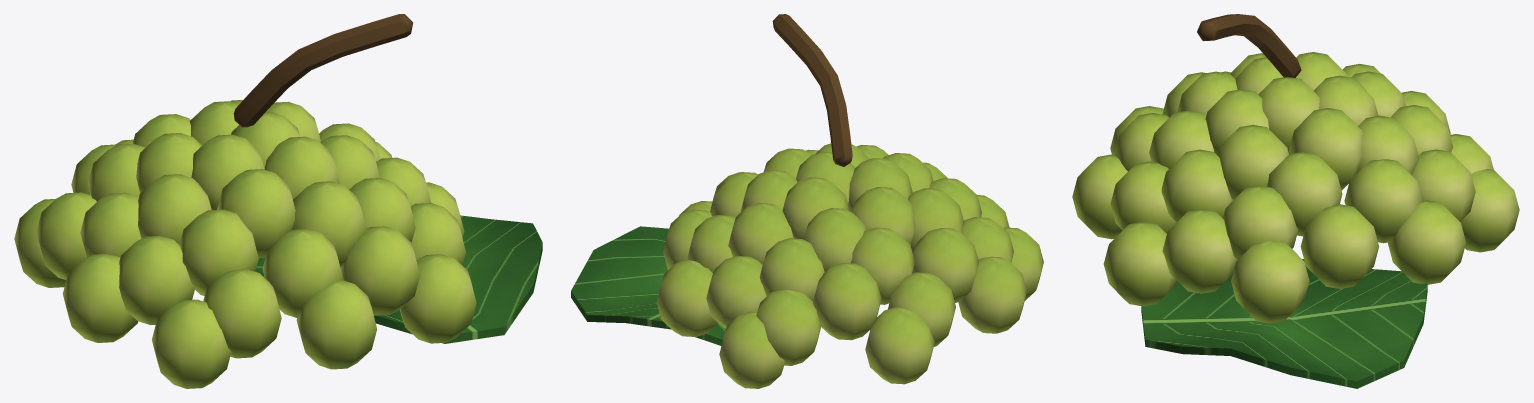
The model's file is fruit_grapes_green_vine.glb.
3 views of the same model, side by side, from view 1: azimuth 30°, elevation 25°; view 2: azimuth 150°, elevation 25°; view 3: azimuth 270°, elevation 25° (orthographic). The views are drawn at different scales.
Parts seen in each view (by area): view 1: fruit_grapes_green_vine; view 2: fruit_grapes_green_vine; view 3: fruit_grapes_green_vine.
Part boxes in pixels (box(x1,y1,x2,y2)): fruit_grapes_green_vine: box(14, 14, 542, 388); fruit_grapes_green_vine: box(571, 14, 1043, 388); fruit_grapes_green_vine: box(1072, 14, 1519, 388).
Bounding box in the file's own units: 0.1266 × 0.0785 × 0.1081.
3 materials, 2 textured.
